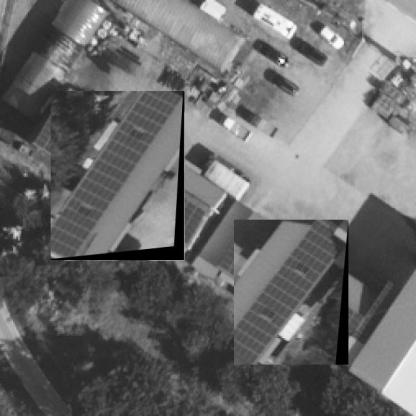solar-pv-panel: (51, 91, 184, 258), (234, 219, 347, 365)
